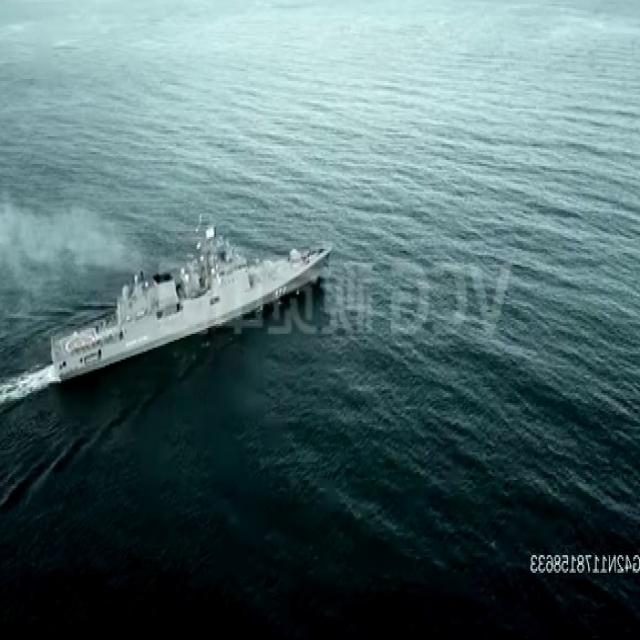navalvessels: (53, 220, 333, 380)
